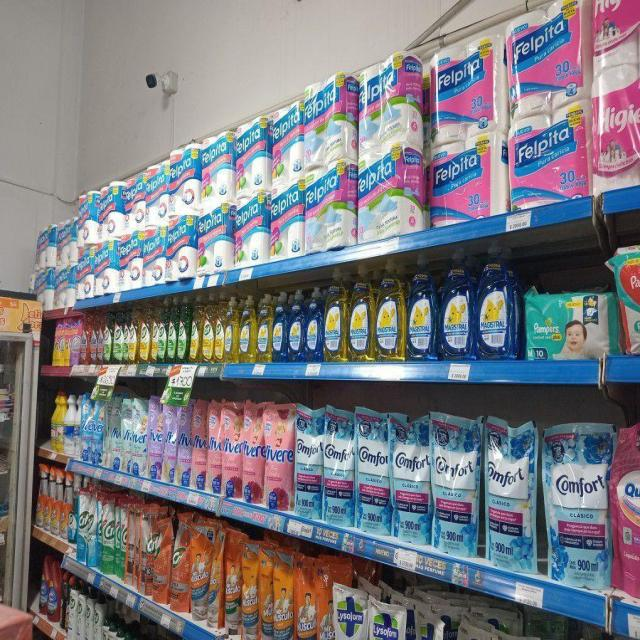ala_conc_rojo: (81, 312, 89, 364), (97, 312, 104, 364), (90, 312, 96, 365)
cif_conc_bot_amarilla: (202, 293, 215, 363), (190, 294, 202, 363), (139, 305, 151, 364), (215, 294, 224, 363), (128, 308, 139, 364)
cif_conc_botella_verde: (178, 295, 190, 363), (167, 298, 177, 364), (156, 301, 166, 363), (113, 309, 123, 364), (152, 303, 160, 364), (104, 310, 112, 365), (123, 309, 129, 364)
cif_conc_sachet_amarillo: (78, 487, 97, 566)
cif_conc_sachet_verde: (100, 494, 115, 574), (115, 495, 125, 580)
drive: (242, 398, 264, 504), (222, 396, 242, 498), (207, 396, 222, 494), (191, 396, 206, 491)
magistral_con_amarillo: (376, 260, 406, 362), (348, 270, 374, 362), (324, 277, 347, 362), (256, 292, 272, 363), (240, 295, 256, 363), (225, 296, 239, 364)
magistral_con_azul: (477, 244, 516, 361), (440, 246, 474, 361), (407, 254, 437, 362), (306, 285, 324, 363), (288, 288, 304, 363), (272, 290, 288, 363)
